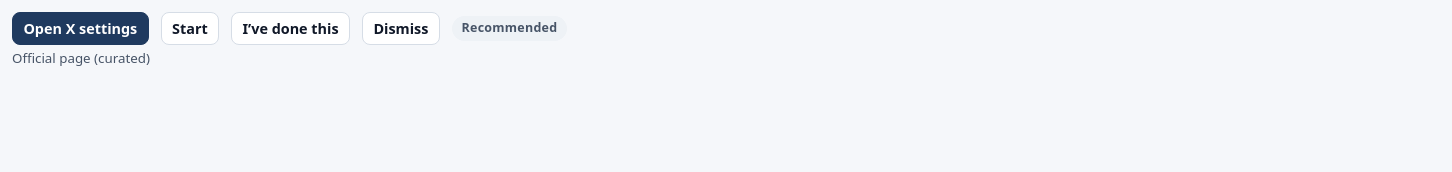
Test case: StatusActions › shows the server error when a change fails
The image size is (1452, 172).
What coordinates should you click on to do the following:
click the button "Start"
I would click on:
 (190, 29)
Its box is [161, 12, 219, 45].
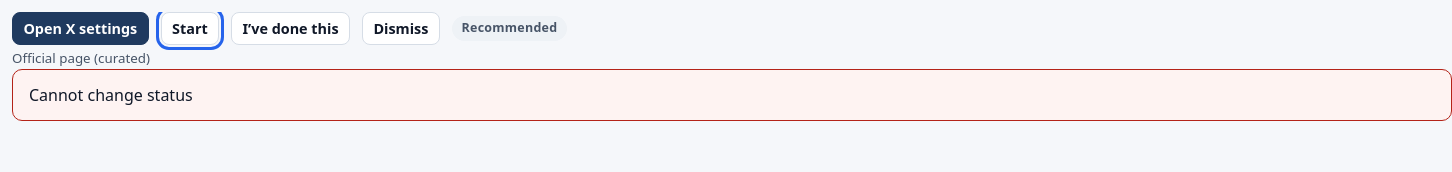
Now the message reads "Cannot change status", box [29, 84, 193, 106]
